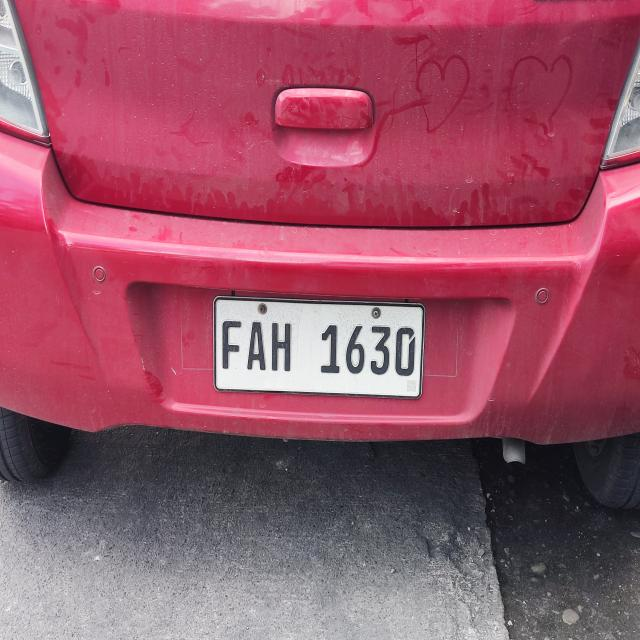plate: (212, 294, 426, 401)
